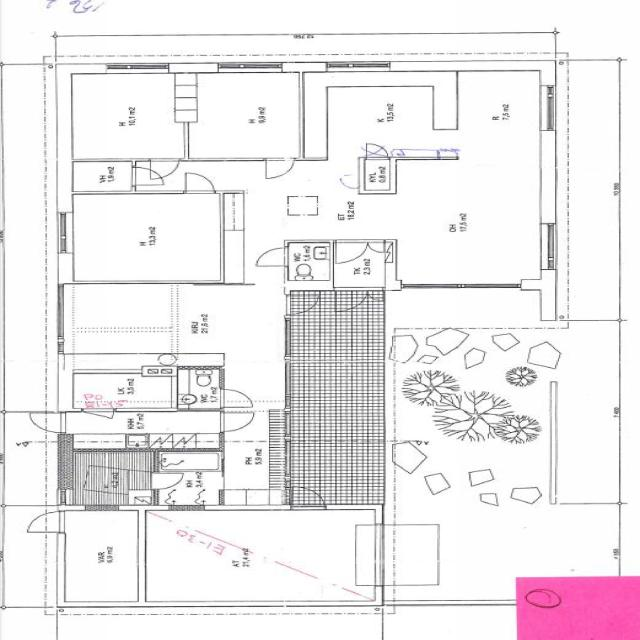door: (330, 238, 391, 288), (216, 407, 259, 435), (288, 485, 329, 511), (332, 240, 371, 264), (217, 387, 257, 410), (25, 510, 63, 534), (182, 170, 218, 194), (28, 411, 65, 434), (262, 157, 296, 181), (253, 246, 289, 268), (150, 470, 187, 491), (148, 158, 181, 180), (130, 166, 166, 186)
window: (535, 220, 564, 272), (408, 280, 529, 292), (535, 84, 564, 134), (52, 208, 77, 256), (324, 59, 394, 72), (216, 61, 283, 74), (104, 62, 170, 75)
zone: (140, 508, 380, 605), (64, 192, 232, 284), (180, 71, 304, 160), (70, 71, 189, 160), (323, 79, 455, 157), (61, 281, 187, 358), (167, 285, 285, 367), (284, 291, 389, 382), (452, 68, 547, 165), (59, 507, 142, 605), (63, 410, 223, 450), (64, 447, 157, 507), (68, 364, 179, 412), (330, 239, 392, 289), (153, 467, 225, 508), (176, 366, 223, 411), (70, 160, 134, 193), (287, 239, 332, 285), (156, 449, 224, 472), (360, 157, 394, 195)
